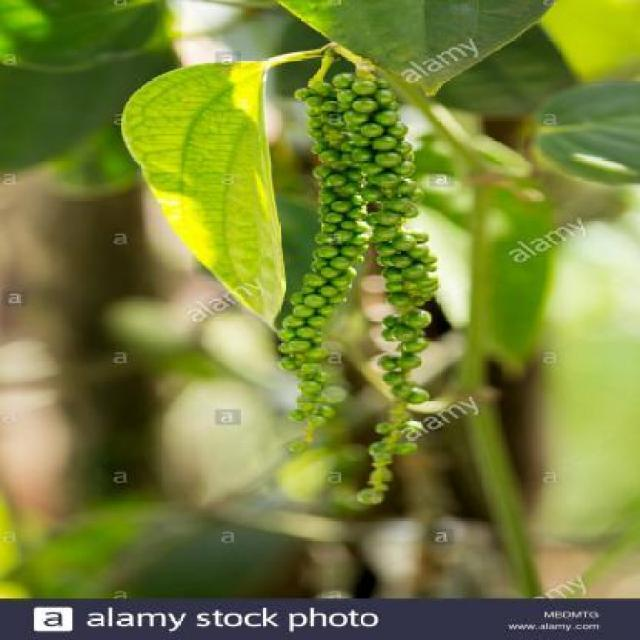UNRIPE: (276, 78, 350, 444), (356, 84, 419, 505)
